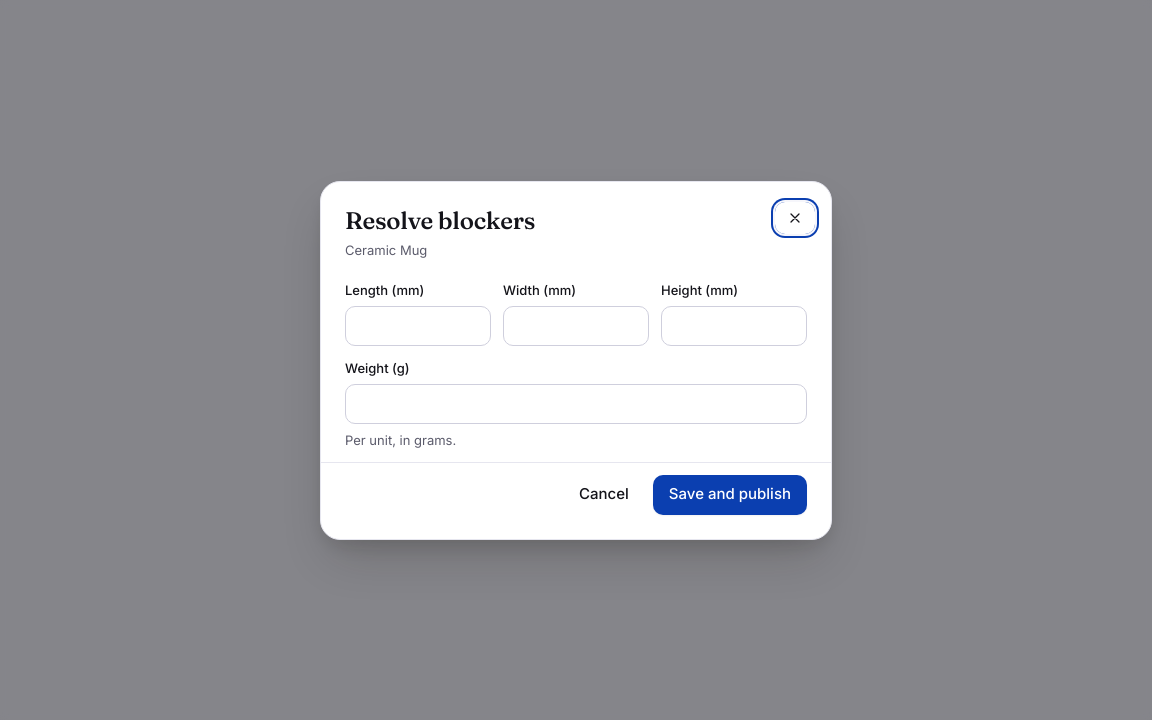
Test: stays open and names what is left when the row is still blocked
Type "100" into the field labelled "Length (mm)".
click(418, 326); type("100")  # box left=345, top=306, right=491, bottom=346
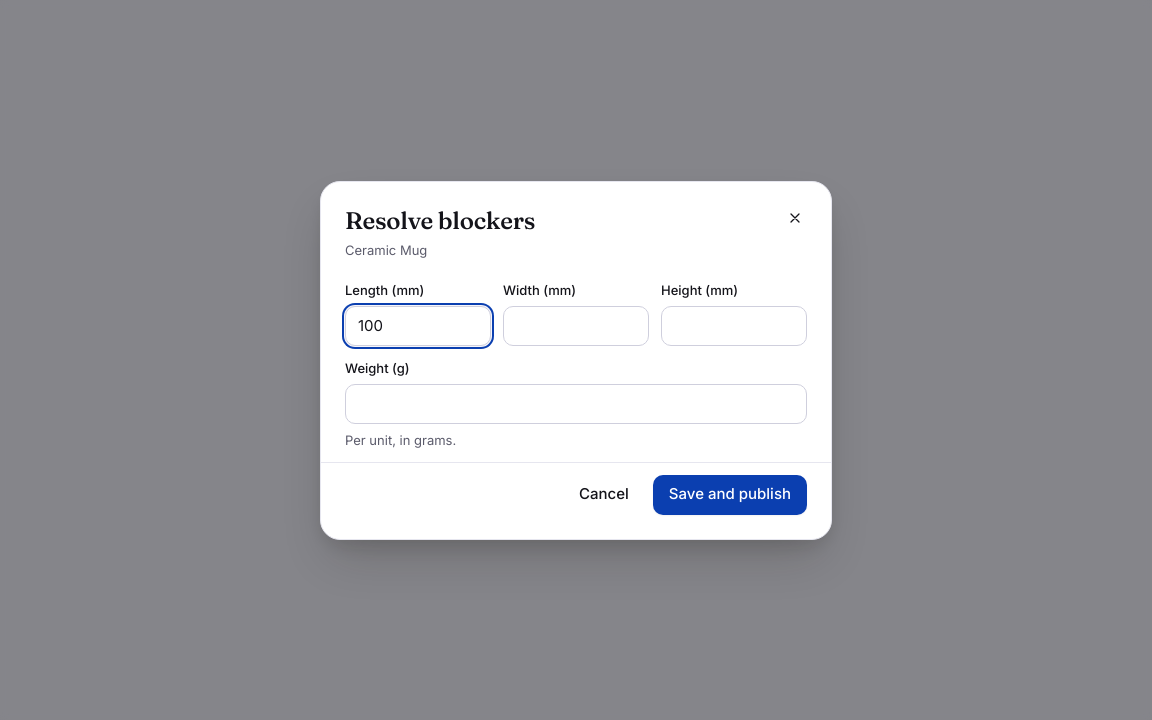
Type "80" into the field labelled "Width (mm)".
click(576, 326); type("80")  # box left=503, top=306, right=649, bottom=346
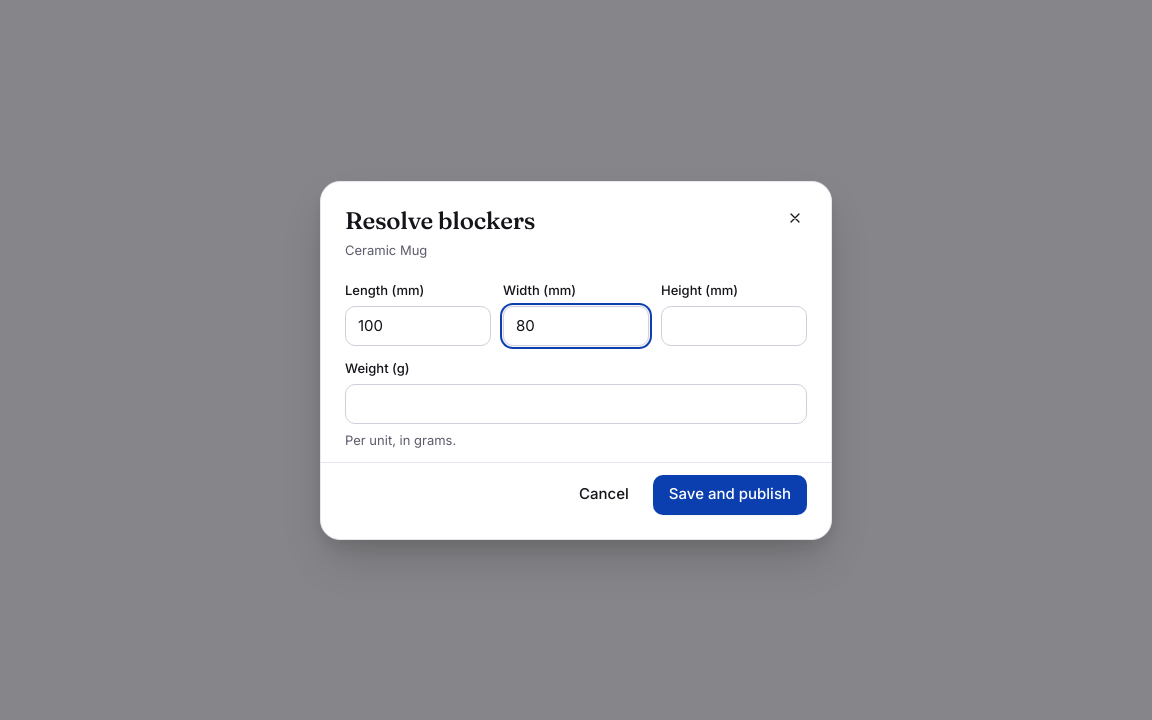
Type "60" into the field labelled "Height (mm)".
click(734, 326); type("60")  # box left=661, top=306, right=807, bottom=346
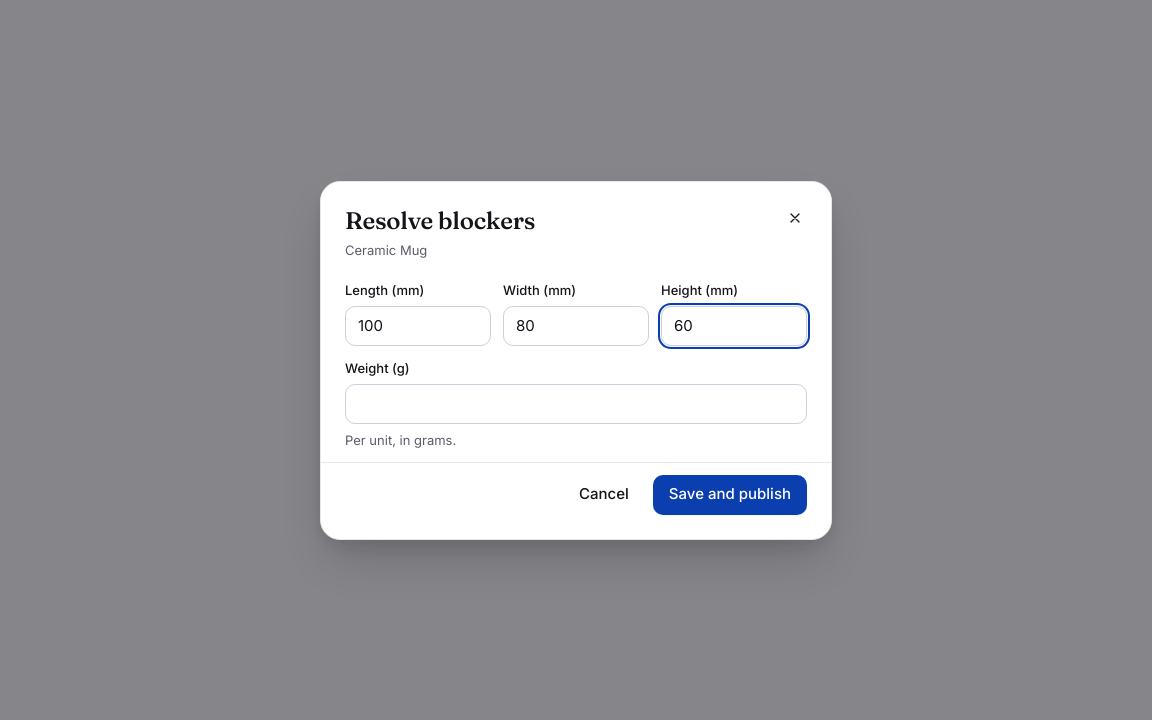
Type "250" into the field labelled "Weight (g)".
click(576, 404); type("250")  # box left=345, top=384, right=807, bottom=424
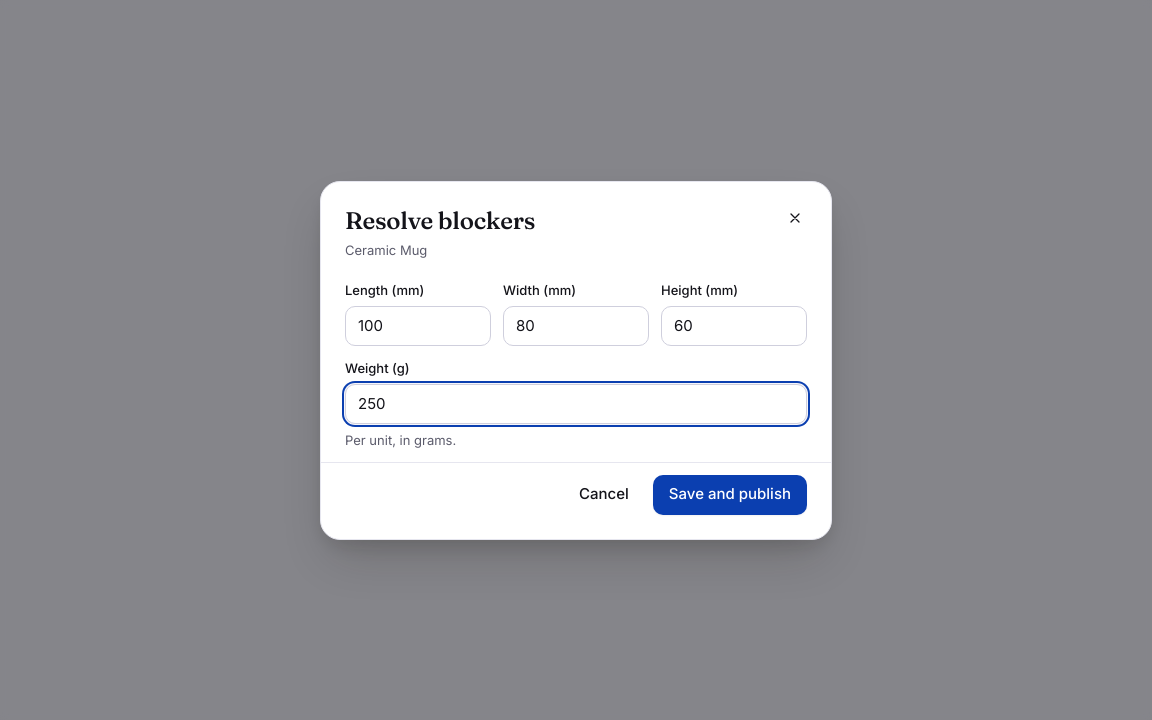
Click the button "Save and publish".
click(730, 494)  # box left=653, top=474, right=807, bottom=514
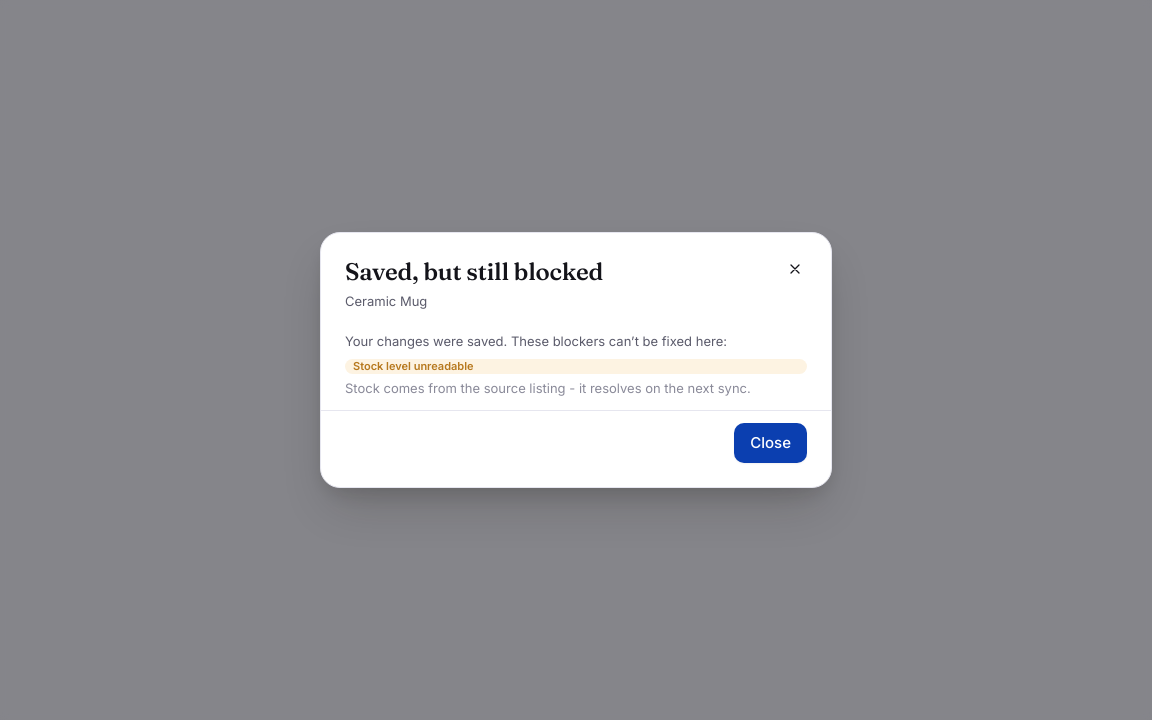
expect the heading "Saved, but still blocked" is shown: met, box left=345, top=257, right=603, bottom=287
expect the text "Stock level unreadable" is shown: met, box left=345, top=359, right=807, bottom=374
expect the text "Your changes were saved. These blockers can’t be fixed here:" is shown: met, box left=345, top=333, right=727, bottom=349
